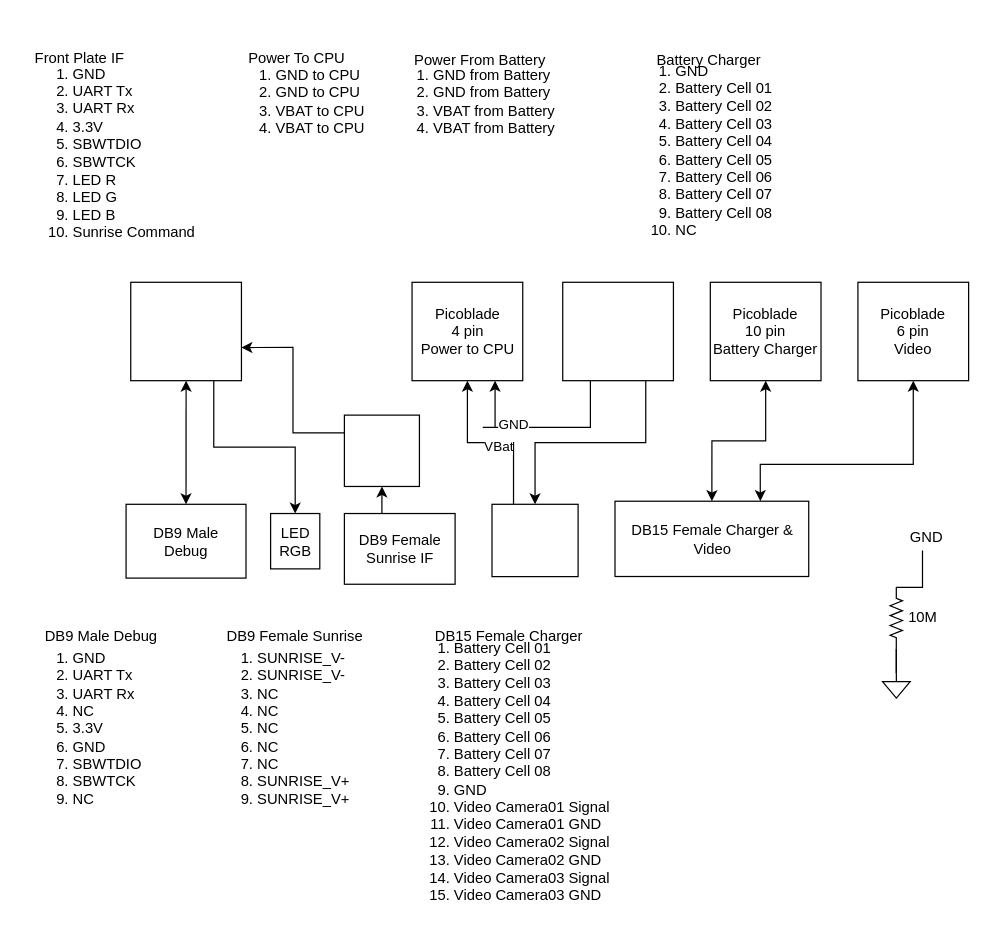
Image size: 990x940. Some labels were removed from this diagram. Here are the shapes that lost their labels. From the top down, the box of each, then its label:
(130, 281, 241, 381): Picoblade 10 pin Front Plate IF
(561, 281, 673, 381): Picoblade 4 pin Power From Battery
(343, 414, 419, 486): Opto coupler
(491, 503, 578, 577): Power Switch
